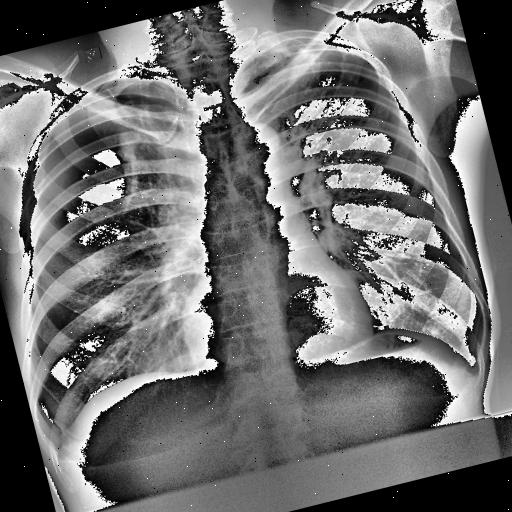11- Pleural thickening: (38, 419, 80, 472)
12- Pneumothorax: (0, 73, 215, 447), (0, 66, 211, 270), (0, 60, 212, 262)
13- Pulmonary fibrosis: (234, 28, 369, 144), (245, 28, 371, 152), (254, 37, 368, 140), (100, 75, 164, 147)
6- Infiltration: (234, 28, 369, 144)
